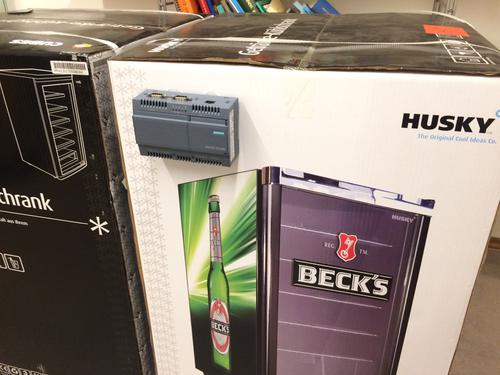iot2000: (130, 88, 240, 168)
